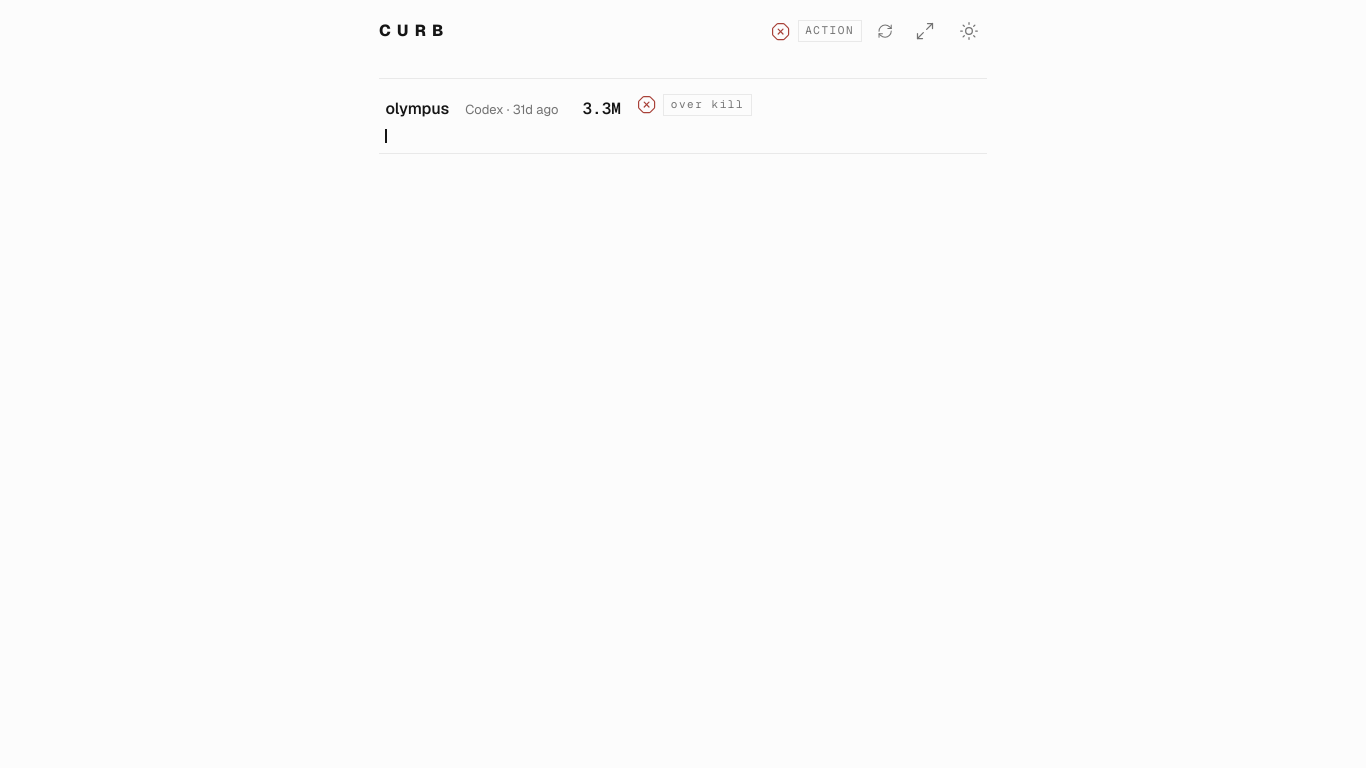
Test: Curb dashboard › shows the identity checklist beside a destructive stop action
Click the button with class "row-head" at [683, 116], box [379, 79, 987, 153]
(page scrolled)
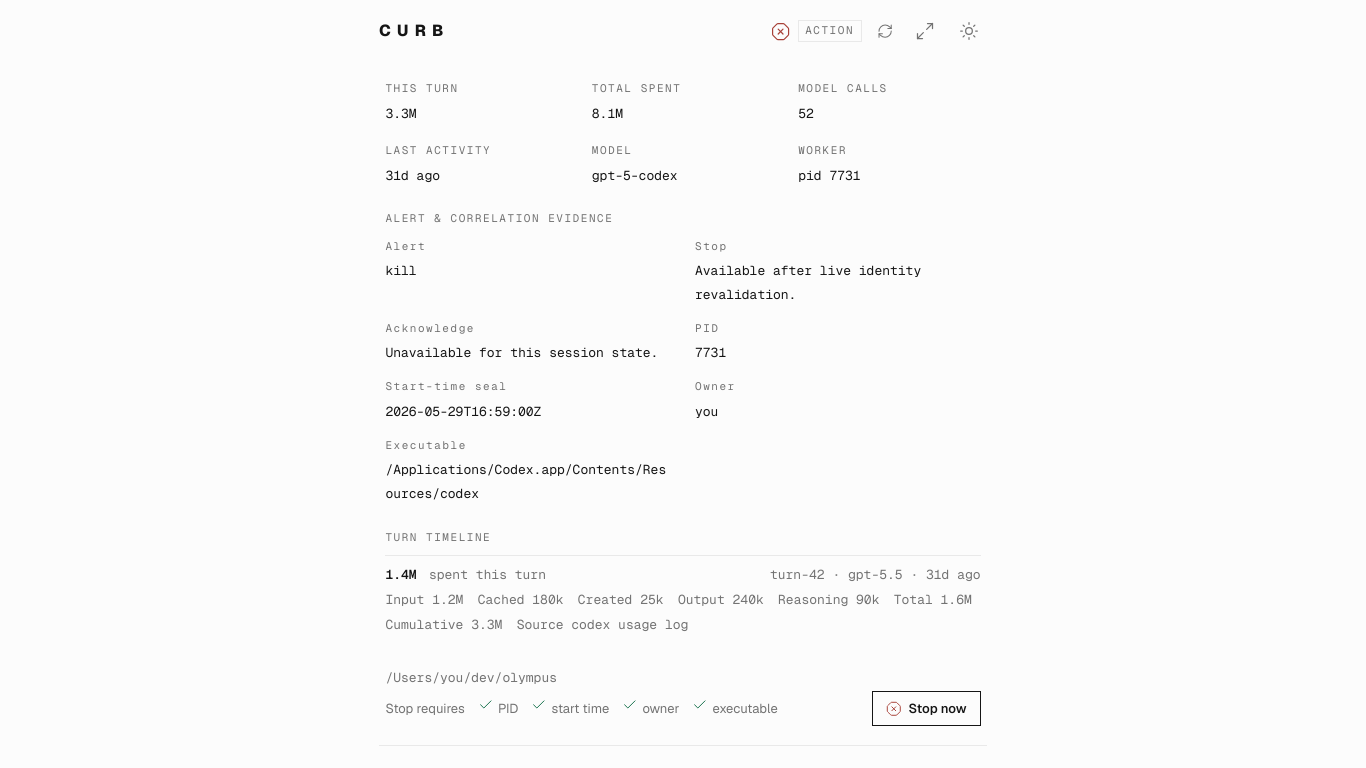
Now the text "Stop requires" is shown, box [385, 697, 465, 720]
Now the text "pid" is shown, box [798, 167, 861, 184]
Now the text "start time" is shown, box [531, 697, 609, 720]
Click the button "Stop now" at [926, 709], box [872, 692, 981, 726]
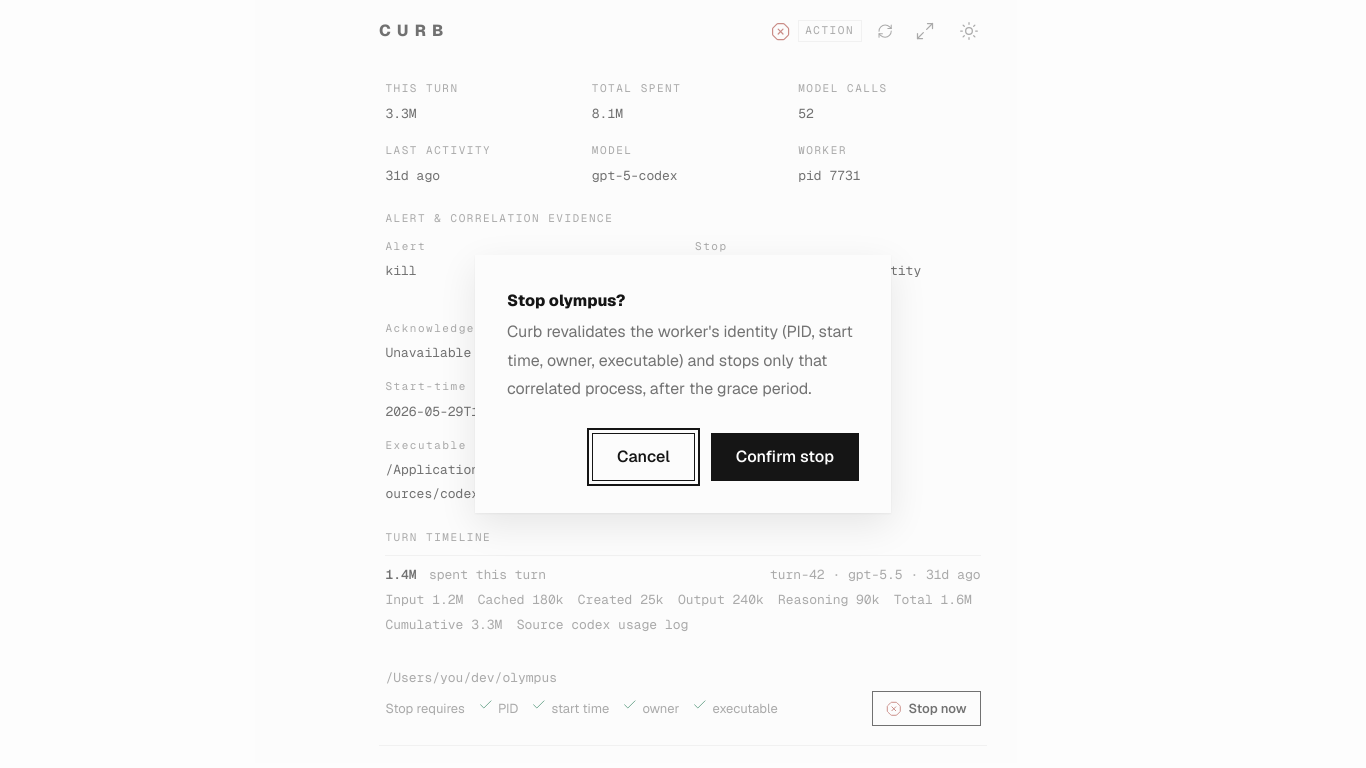
Now the text "Confirm stop" is shown, box [711, 433, 859, 481]
